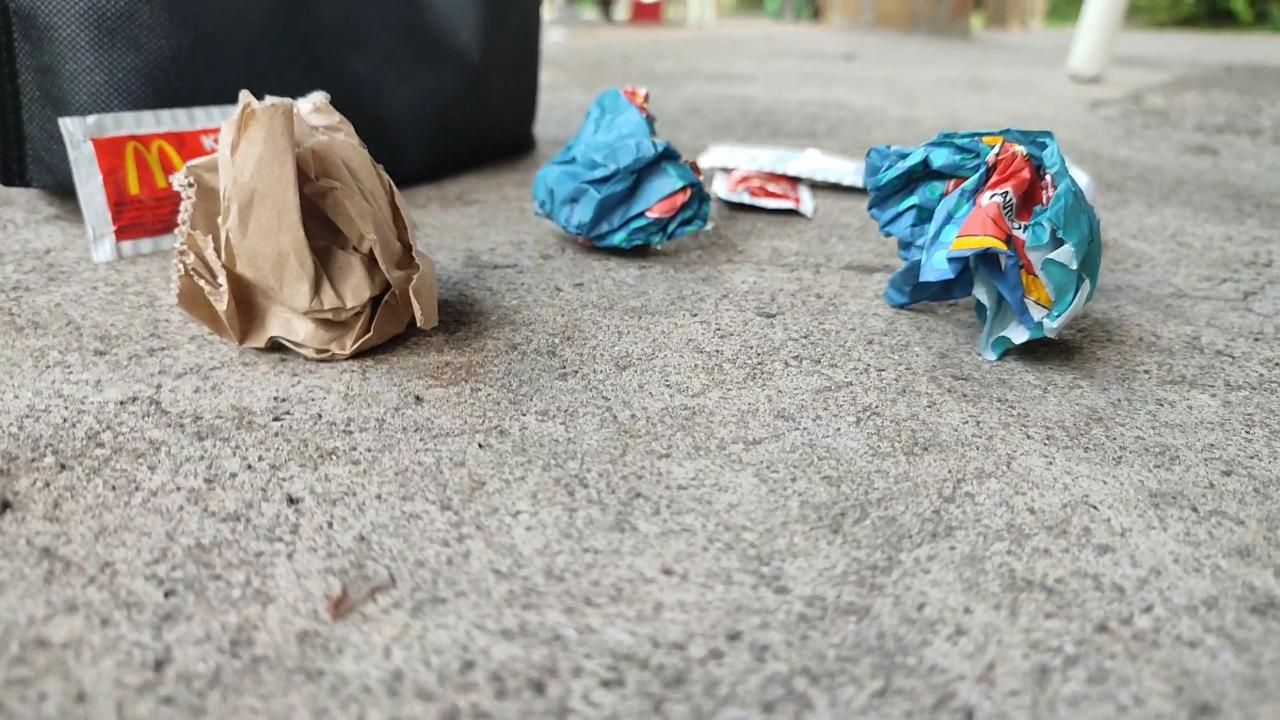Paper: (177, 99, 444, 366), (857, 105, 1115, 360), (537, 79, 704, 266)
